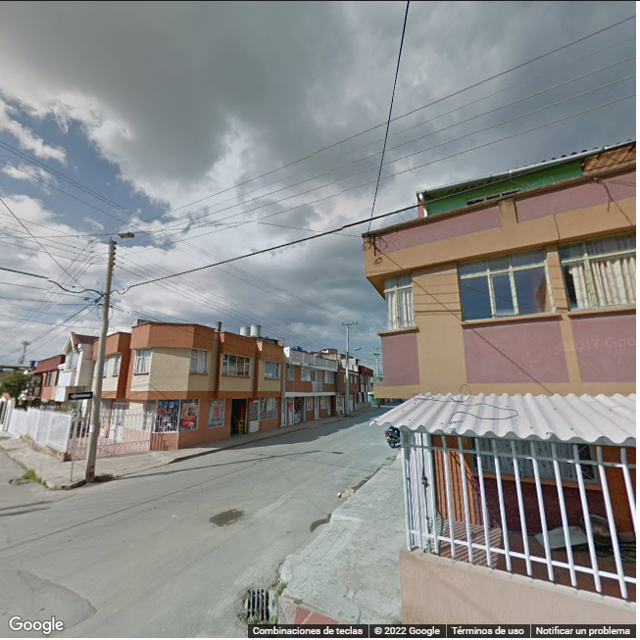D00: (64, 605, 95, 632)
D10: (17, 563, 100, 611)
D40: (212, 492, 247, 529)
